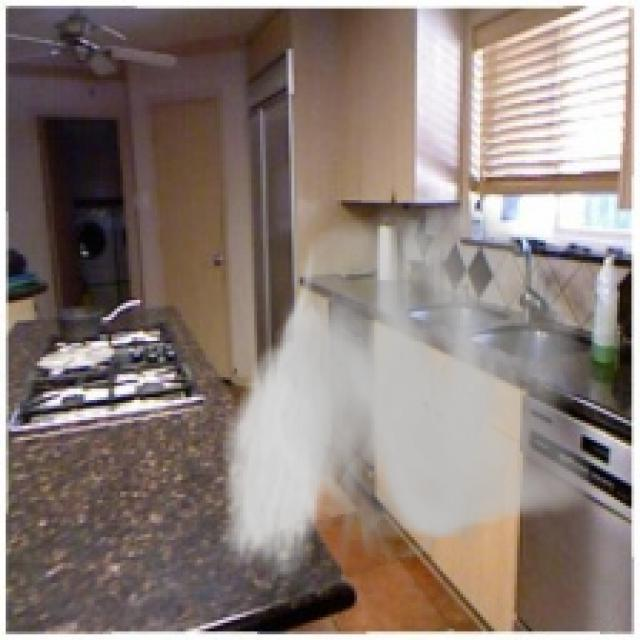Smoke: (217, 188, 592, 586)
